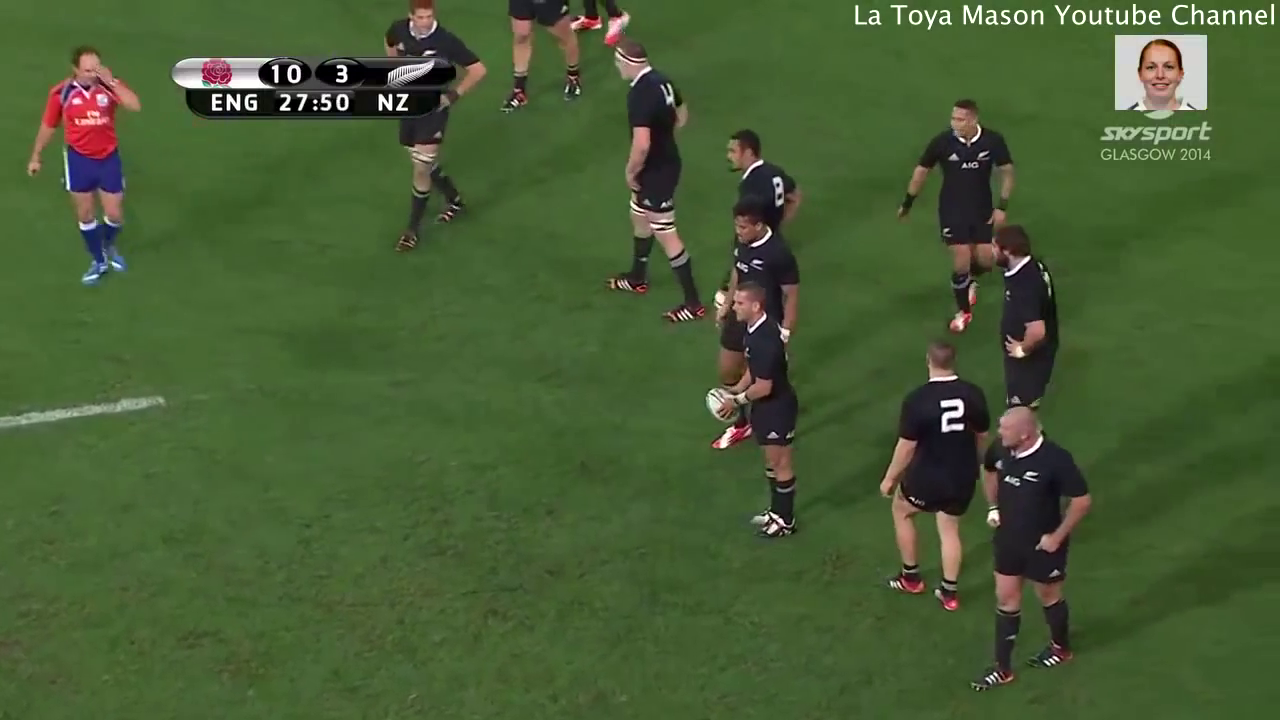player: (582, 32, 714, 330), (694, 275, 824, 553), (968, 404, 1089, 699), (891, 82, 1022, 342), (25, 27, 150, 299), (374, 1, 498, 265), (875, 336, 983, 620), (965, 204, 1073, 436), (696, 112, 803, 252), (713, 200, 808, 344), (489, 1, 588, 122)
